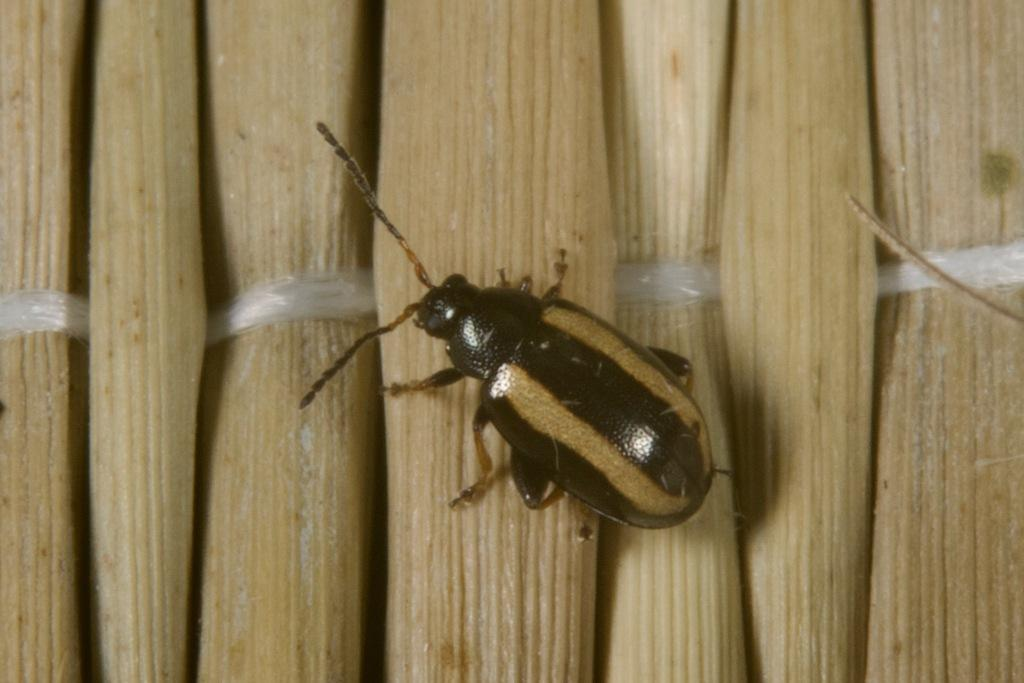flea_beetle: (207, 66, 811, 629)
